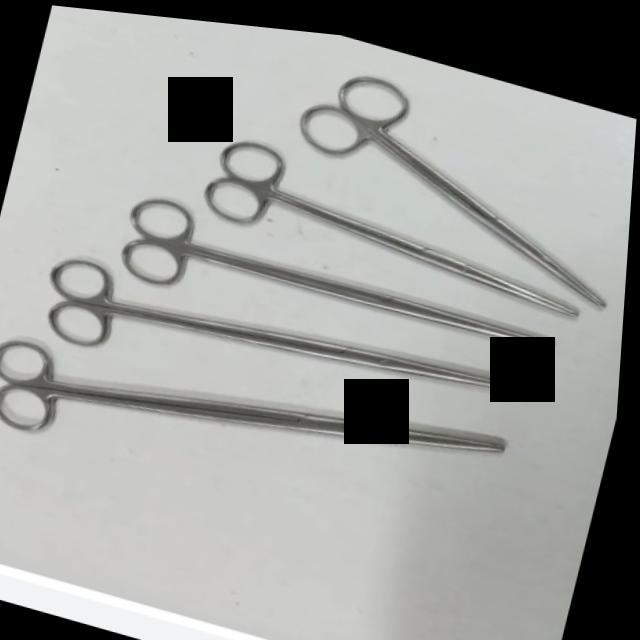Metzenbaum Sciccors: (0, 294, 534, 556), (21, 242, 533, 454), (272, 33, 640, 295), (112, 180, 576, 382), (192, 115, 610, 312)
